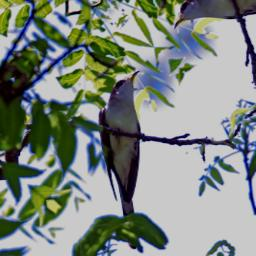Cuckoo: (39, 63, 226, 251)
